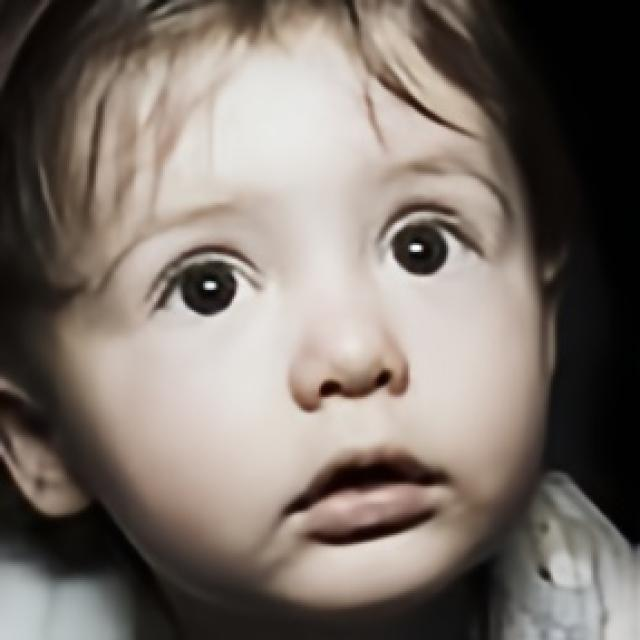fear: (88, 2, 552, 620)
